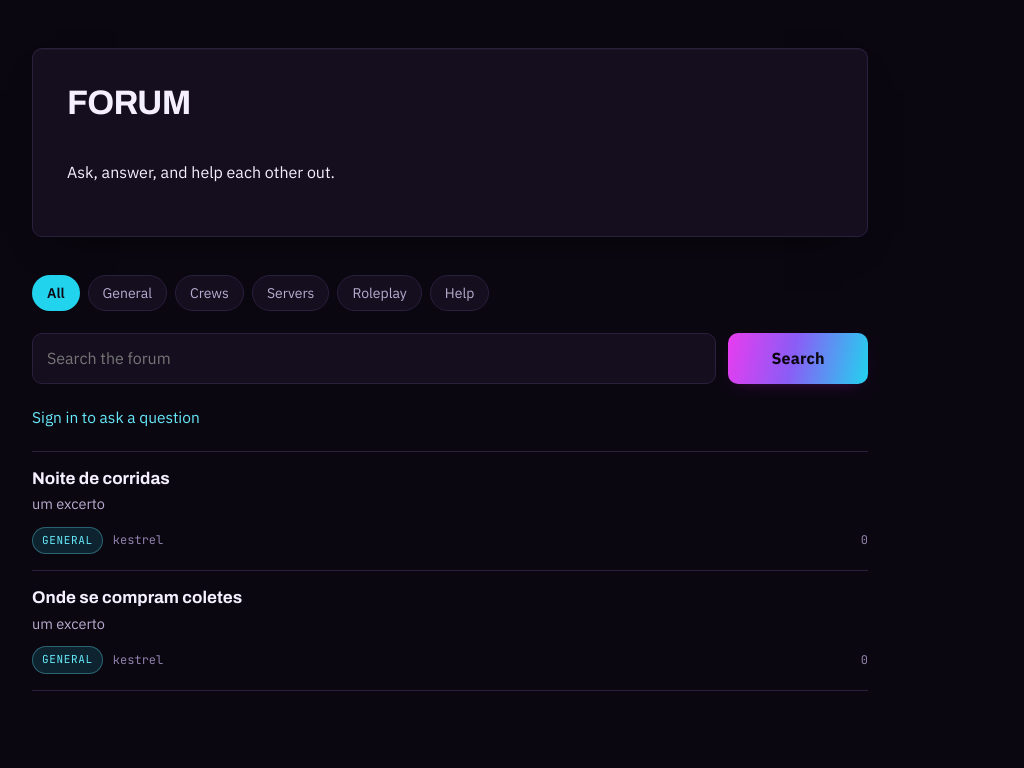
Scenario: procurar no fórum › e escreve-a lá quando se procura
Expected: the text "Noite de corridas" is shown, [32,469,170,488]
Type "corridas" into the search field at (374, 358), box [32,333,716,384]
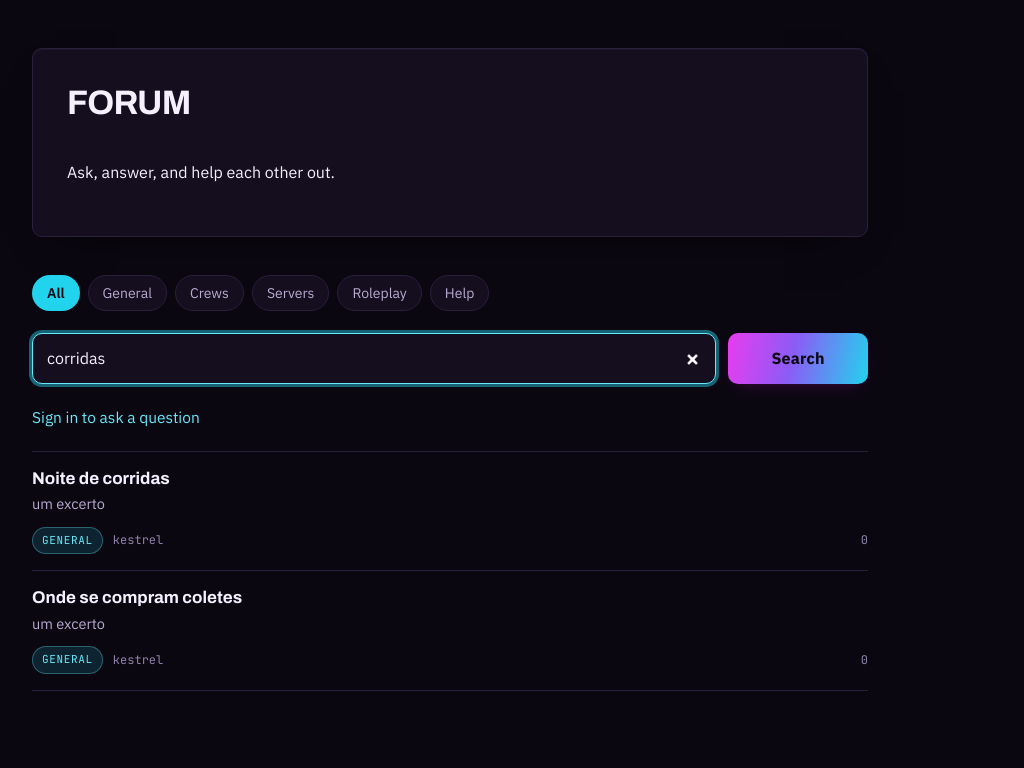
Click the button "Search" at (798, 358), box [728,333,868,384]
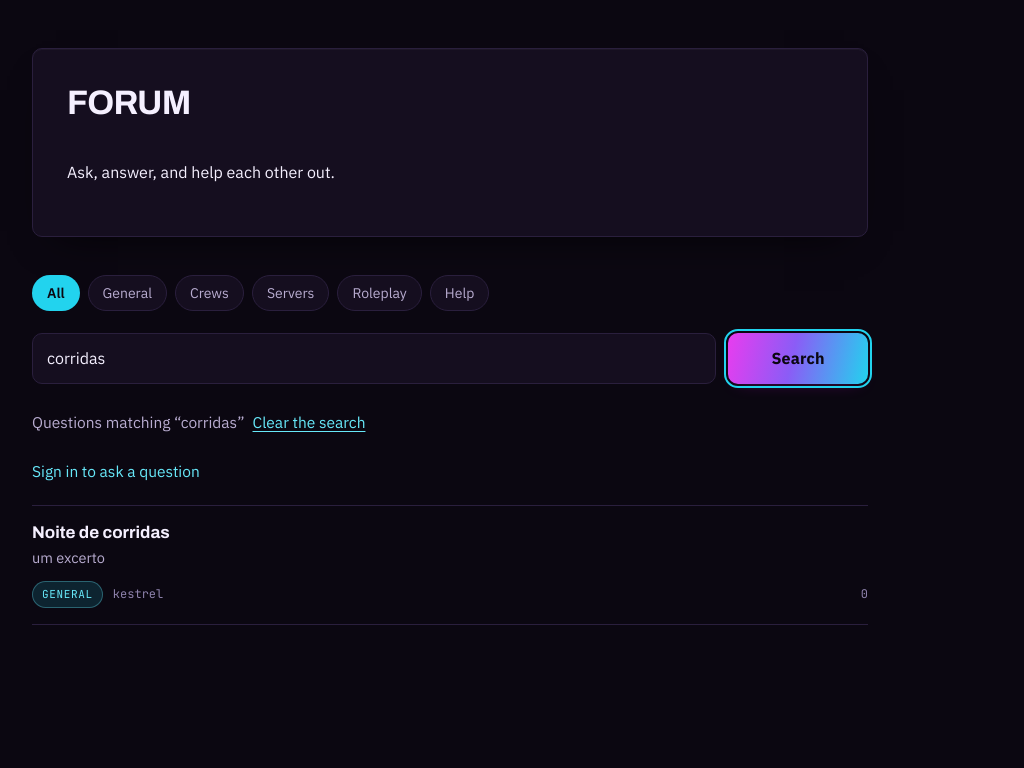
Result: the link "Onde se compram coletes" is gone
